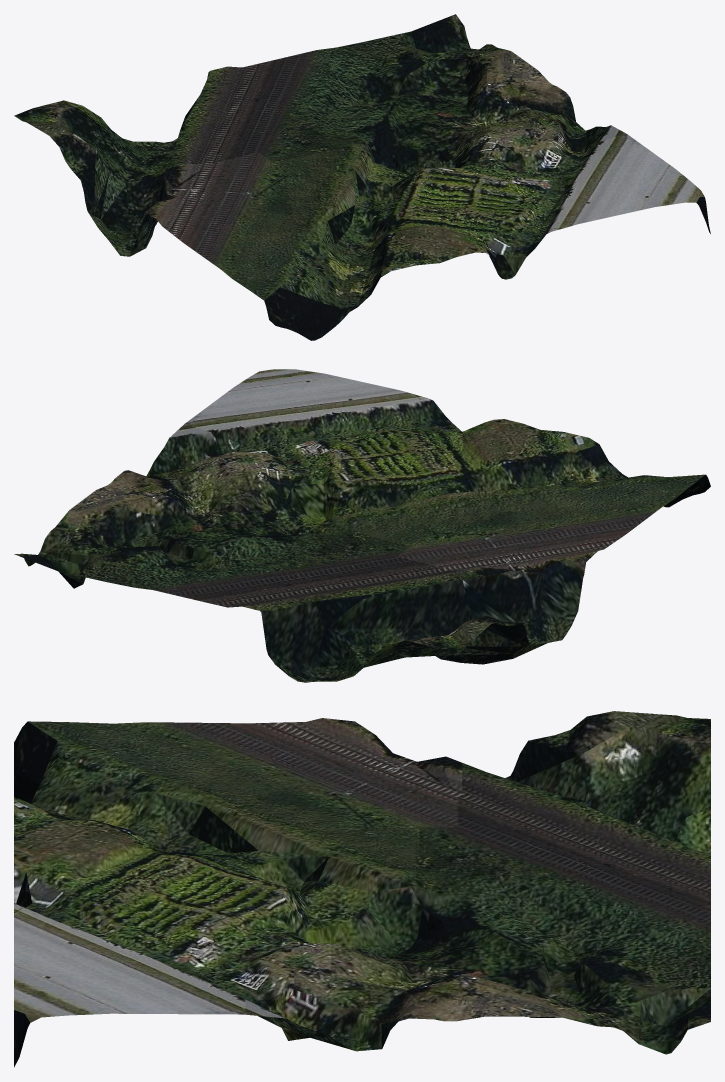
File: map_15_8185_13790.dae
The picture shows the model from 3 angles, top to bottom: view 1: azimuth 30°, elevation 25°; view 2: azimuth 150°, elevation 25°; view 3: azimuth 270°, elevation 25°; orthographic projection. The views are drawn at different scales.
Visible parts, largest first — view 1: Ter0; view 2: Ter0; view 3: Ter0.
Part boxes in pixels (left/top/right/bottom): Ter0: left=14, top=14, right=710, bottom=340; Ter0: left=14, top=369, right=710, bottom=682; Ter0: left=14, top=711, right=710, bottom=1067.
Size of the model in its own units: 63.87 by 63.88 by 11.08.
2 materials, 2 textured.
